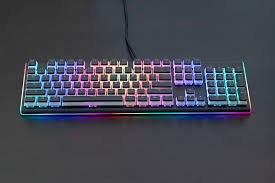keyboard: (20, 57, 255, 124)
